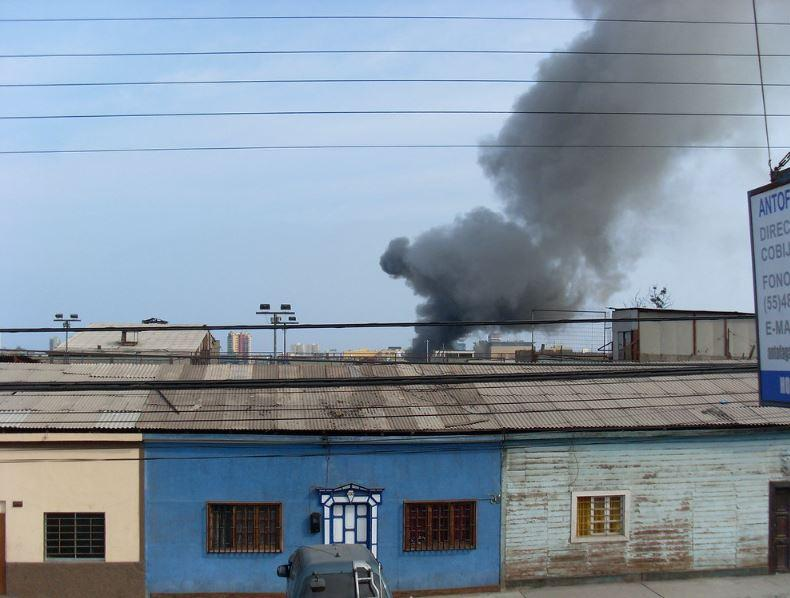smoke: (610, 11, 700, 150), (431, 230, 530, 307)
